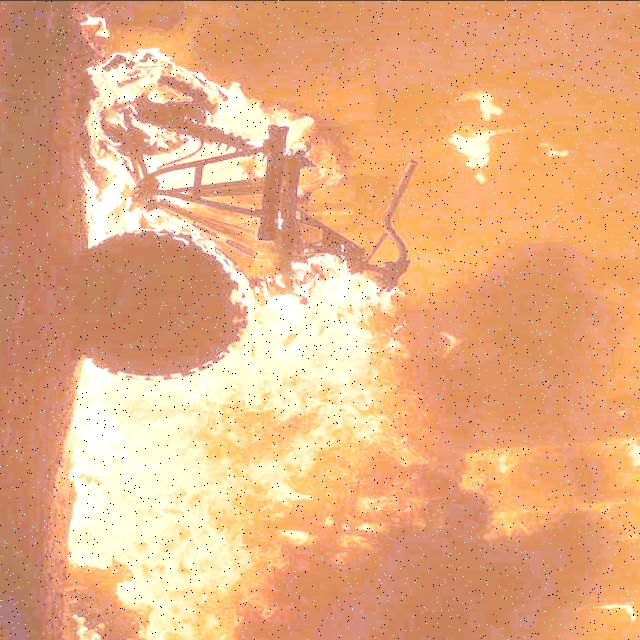api: (70, 4, 525, 640), (463, 435, 640, 640), (441, 84, 579, 206)
